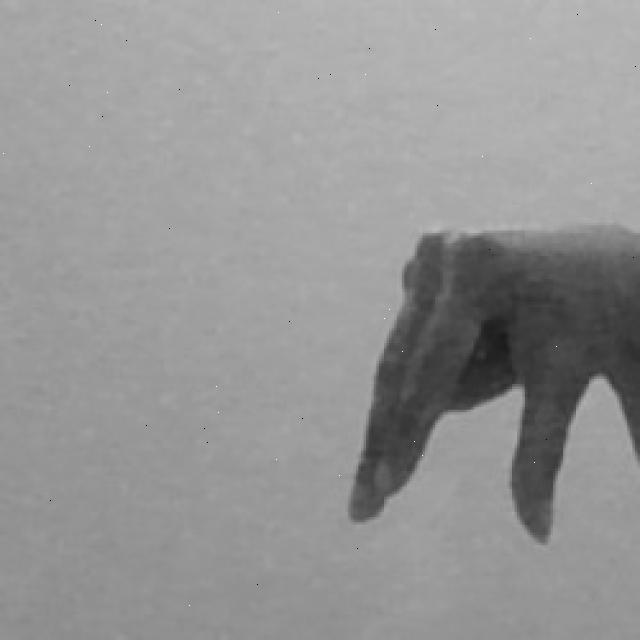Q: (344, 209, 640, 555)
